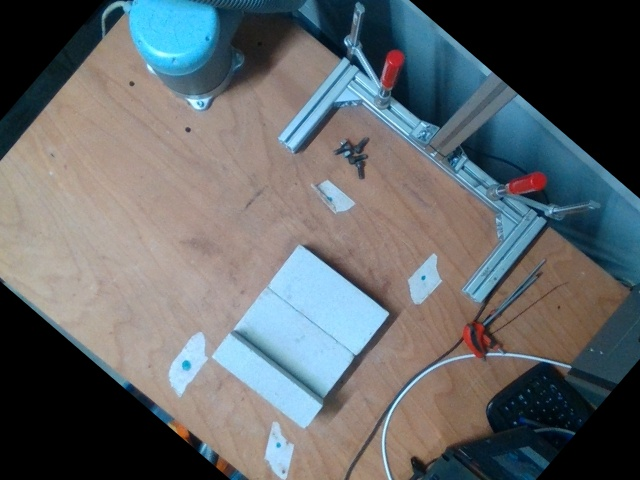brick-side: (208, 332, 325, 431)
